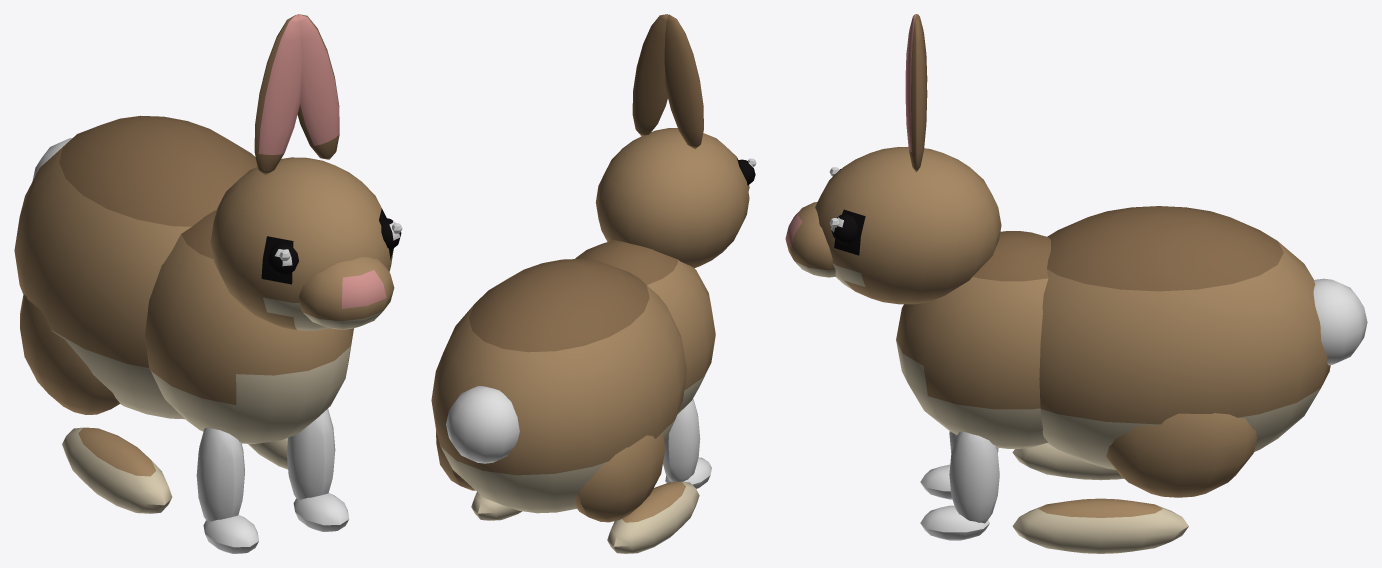
Rendered from L02C_Rabbit.fbx.
3 views of the same model, side by side, from view 1: azimuth 30°, elevation 25°; view 2: azimuth 150°, elevation 25°; view 3: azimuth 270°, elevation 25° (orthographic). The views are drawn at different scales.
Visible parts, largest first — view 1: Body.003, Head, LegBL, LegFL, EarL, LegFR, EarR, LegBR; view 2: Body.003, Head, LegBL, Tail, EarL, EarR, LegFL, LegBR; view 3: Body.003, Head, LegBR, LegFR, Tail, EarR, LegBL, LegFL.
Part boxes in pixels (left/top/right/bottom): Body.003: left=14, top=115, right=353, bottom=443; Head: left=210, top=157, right=402, bottom=330; LegBL: left=20, top=294, right=172, bottom=513; LegFL: left=196, top=427, right=258, bottom=553; EarL: left=254, top=14, right=301, bottom=175; LegFR: left=287, top=409, right=349, bottom=531; EarR: left=297, top=14, right=339, bottom=159; LegBR: left=248, top=438, right=287, bottom=469; Body.003: left=431, top=240, right=715, bottom=513; Head: left=595, top=128, right=756, bottom=268; LegBL: left=574, top=433, right=699, bottom=553; Tail: left=446, top=386, right=519, bottom=463; EarL: left=664, top=14, right=703, bottom=148; EarR: left=632, top=14, right=667, bottom=135; LegFL: left=663, top=399, right=711, bottom=488; LegBR: left=436, top=430, right=521, bottom=520; Body.003: left=896, top=206, right=1330, bottom=469; Head: left=785, top=147, right=1001, bottom=304; LegBR: left=1012, top=413, right=1257, bottom=553; LegFR: left=920, top=431, right=999, bottom=540; Tail: left=1313, top=278, right=1367, bottom=365; EarR: left=905, top=15, right=927, bottom=172; LegBL: left=1012, top=443, right=1123, bottom=480; LegFL: left=920, top=431, right=998, bottom=499.
Size of the model in its own units: 0.268 by 0.5714 by 0.6.
